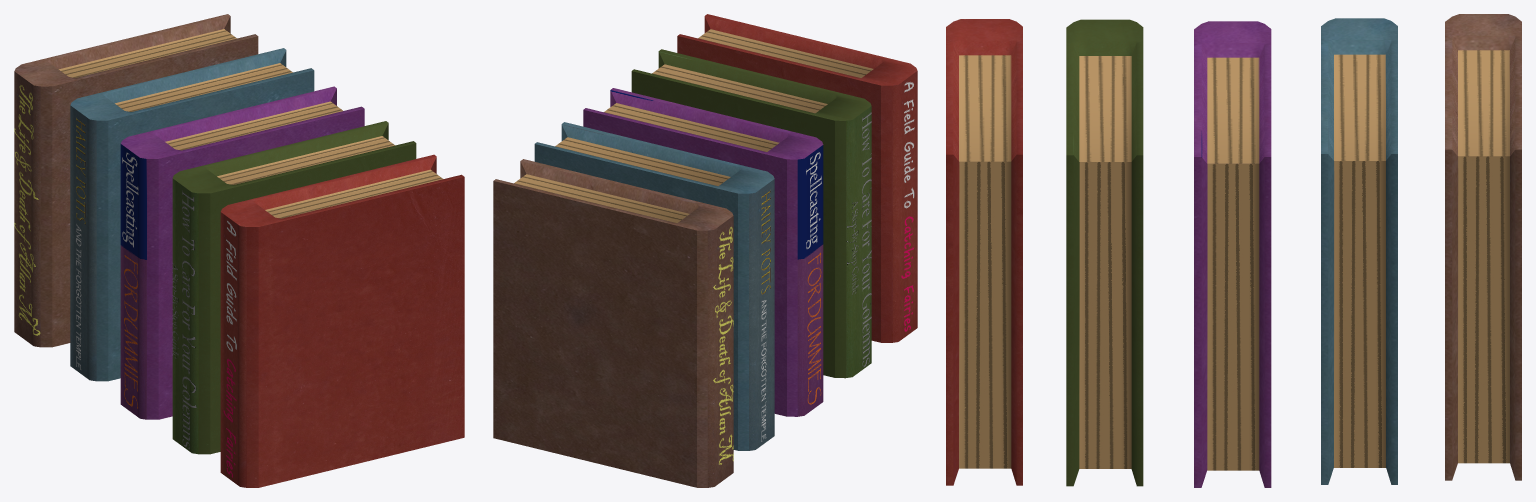
The model's file is Books.fbx.
The picture shows the model from 3 angles, left to right: view 1: azimuth 30°, elevation 25°; view 2: azimuth 150°, elevation 25°; view 3: azimuth 270°, elevation 25°; orthographic projection. The views are drawn at different scales.
Visible parts, largest first — view 1: BookFieldGuide, BookLife&Death, BookHaileyPotts, BookForDummies, BookCareForGolemns; view 2: BookLife&Death, BookCareForGolemns, BookForDummies, BookFieldGuide, BookHaileyPotts; view 3: BookCareForGolemns, BookForDummies, BookLife&Death, BookFieldGuide, BookHaileyPotts.
Boxes of the visible parts, left/top/right/bottom form: BookFieldGuide: left=220, top=154, right=464, bottom=487; BookLife&Death: left=14, top=14, right=258, bottom=347; BookHaileyPotts: left=70, top=48, right=314, bottom=381; BookForDummies: left=120, top=86, right=364, bottom=419; BookCareForGolemns: left=172, top=121, right=416, bottom=454; BookLife&Death: left=493, top=159, right=733, bottom=487; BookCareForGolemns: left=631, top=49, right=871, bottom=378; BookForDummies: left=583, top=88, right=823, bottom=416; BookFieldGuide: left=677, top=14, right=917, bottom=342; BookHaileyPotts: left=534, top=122, right=774, bottom=450; BookCareForGolemns: left=1066, top=19, right=1143, bottom=486; BookForDummies: left=1194, top=21, right=1271, bottom=487; BookLife&Death: left=1445, top=14, right=1521, bottom=480; BookFieldGuide: left=946, top=19, right=1022, bottom=485; BookHaileyPotts: left=1321, top=18, right=1397, bottom=484.
Bounding box in the file's own units: 43.85 × 48.31 × 75.33.
Materials: 5 (5 with a texture image).
